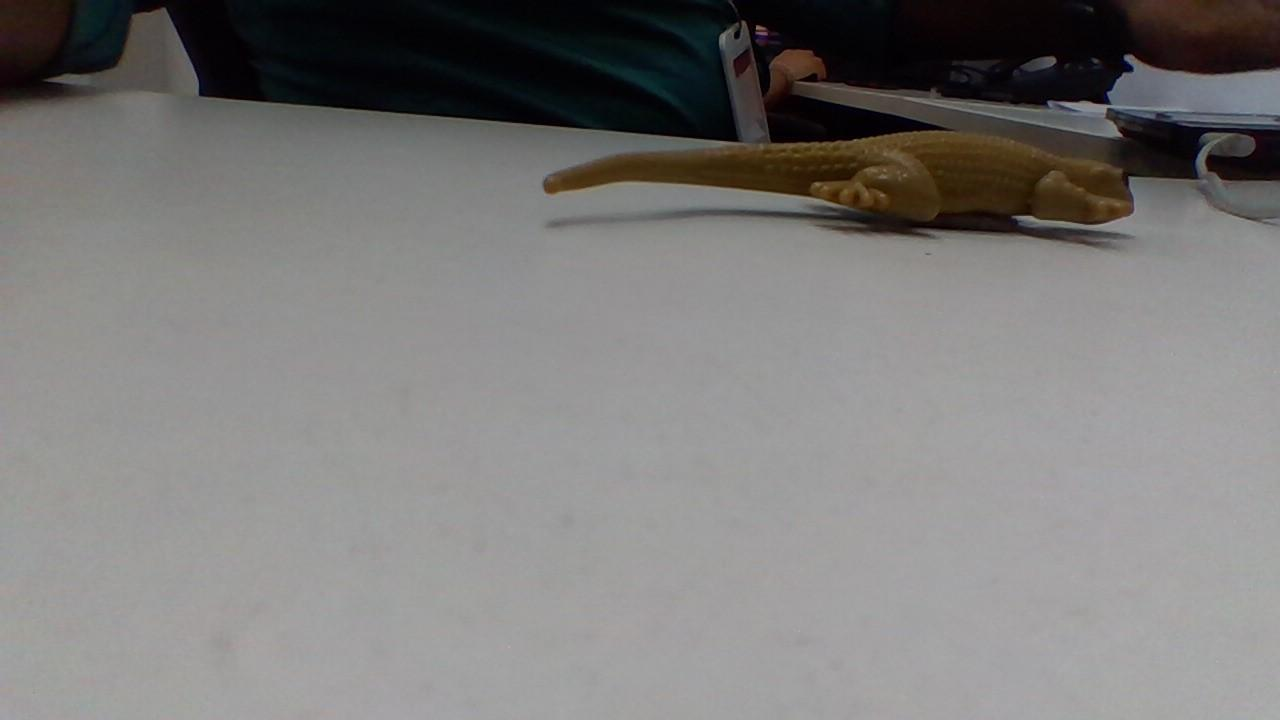lizard: (530, 113, 1137, 236)
